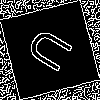U: (24, 24, 82, 80)
